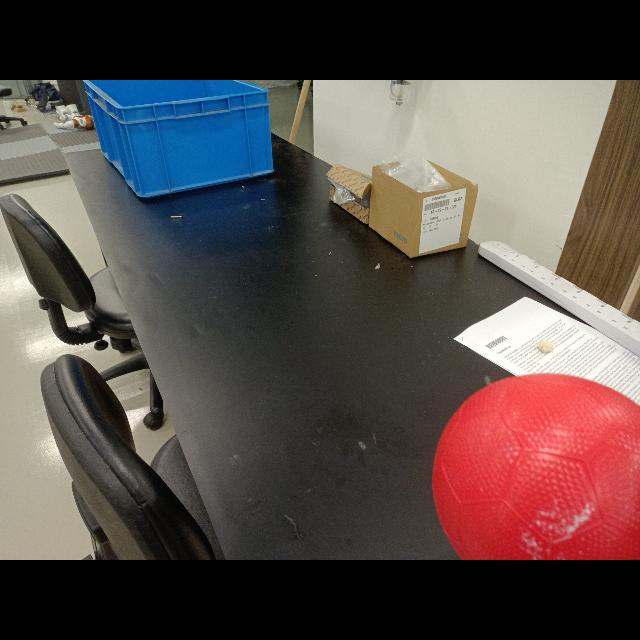R: (428, 372, 640, 560)
